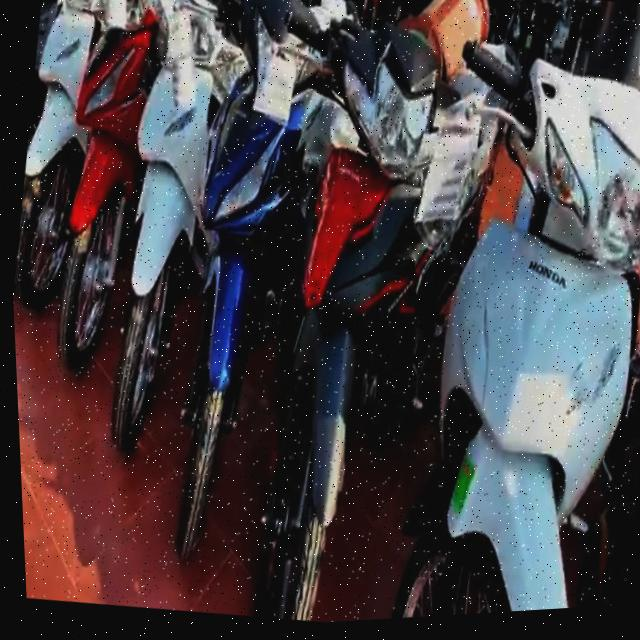motorcycle: (208, 0, 485, 628), (377, 16, 640, 618), (122, 0, 348, 585), (74, 0, 249, 474), (13, 0, 176, 397)
